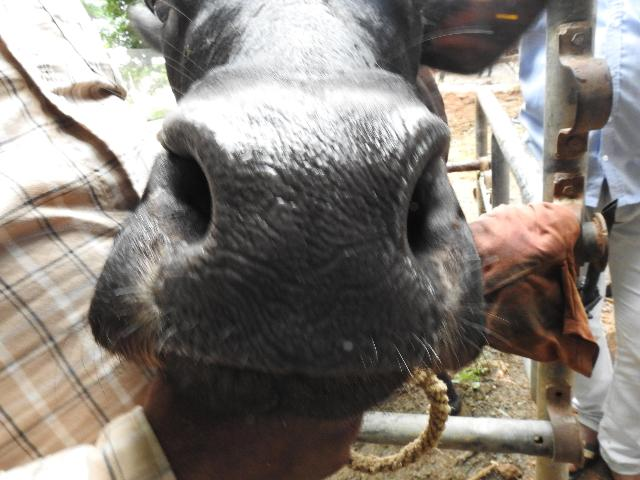Muzzle: (208, 116, 402, 348)
